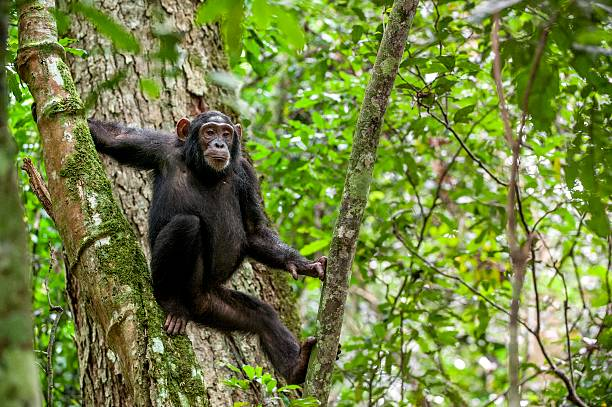chimpanzee: (168, 101, 250, 187)
